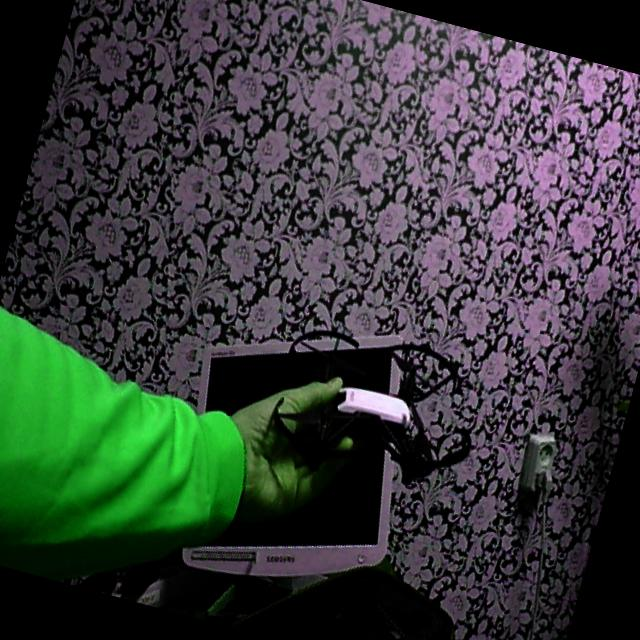drone: (255, 296, 500, 516)
